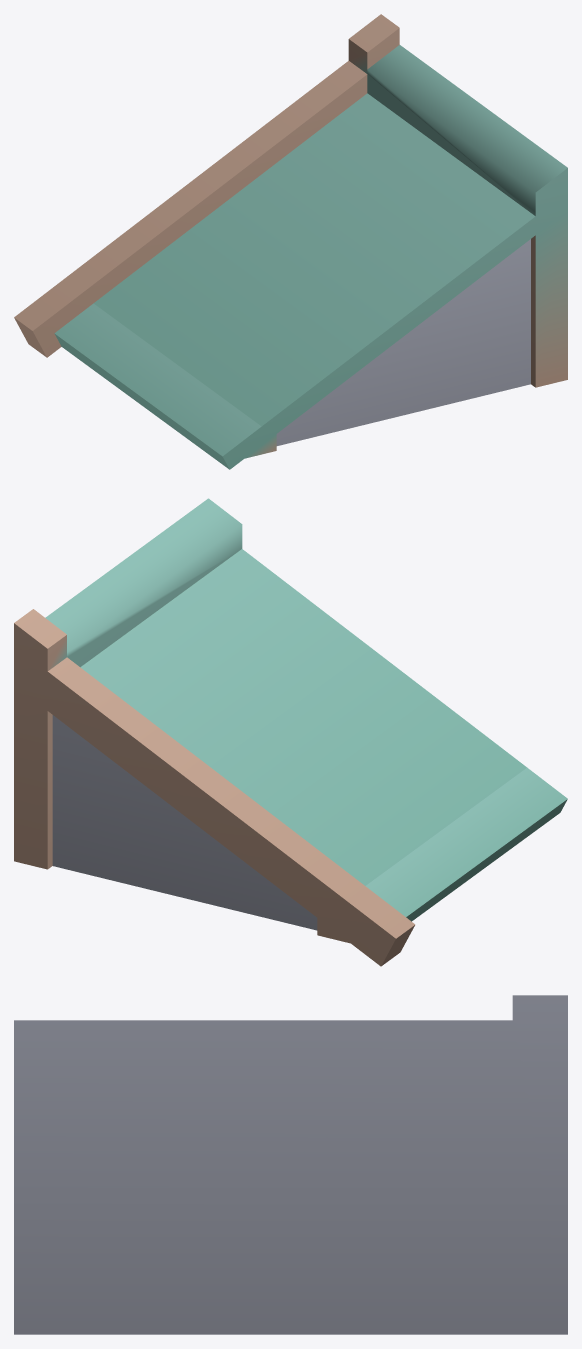
The model's file is roof-left.glb.
3 renders of one model, top to bottom at view 1: azimuth 30°, elevation 25°; view 2: azimuth 150°, elevation 25°; view 3: azimuth 270°, elevation 25°, orthographic. The views are drawn at different scales.
Visible parts, largest first — view 1: roof-left; view 2: roof-left; view 3: roof-left.
Boxes of the visible parts, x1=… form: roof-left: x1=14, y1=14, x2=567, y2=469; roof-left: x1=14, y1=498, x2=567, y2=966; roof-left: x1=14, y1=995, x2=567, y2=1334.
Size of the model in its own units: 1.13 by 0.7206 by 1.
